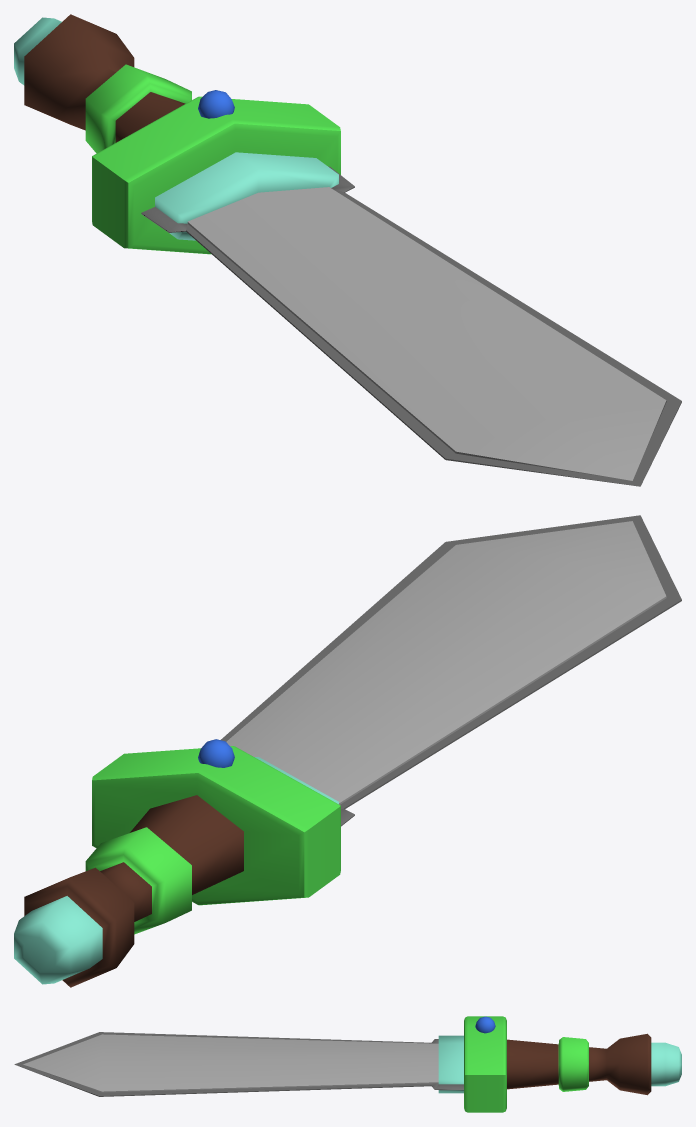
The model's file is Sword.fbx.
The picture shows the model from 3 angles, top to bottom: view 1: azimuth 30°, elevation 25°; view 2: azimuth 150°, elevation 25°; view 3: azimuth 270°, elevation 25°; orthographic projection. The views are drawn at different scales.
Visible parts, largest first — view 1: Sword; view 2: Sword; view 3: Sword.
Part boxes in pixels (<box>): Sword: <box>14,14,681,486</box>; Sword: <box>14,515,681,987</box>; Sword: <box>14,1016,681,1112</box>.
Bounding box in the file's own units: 3.63 × 2.25 × 15.98.
